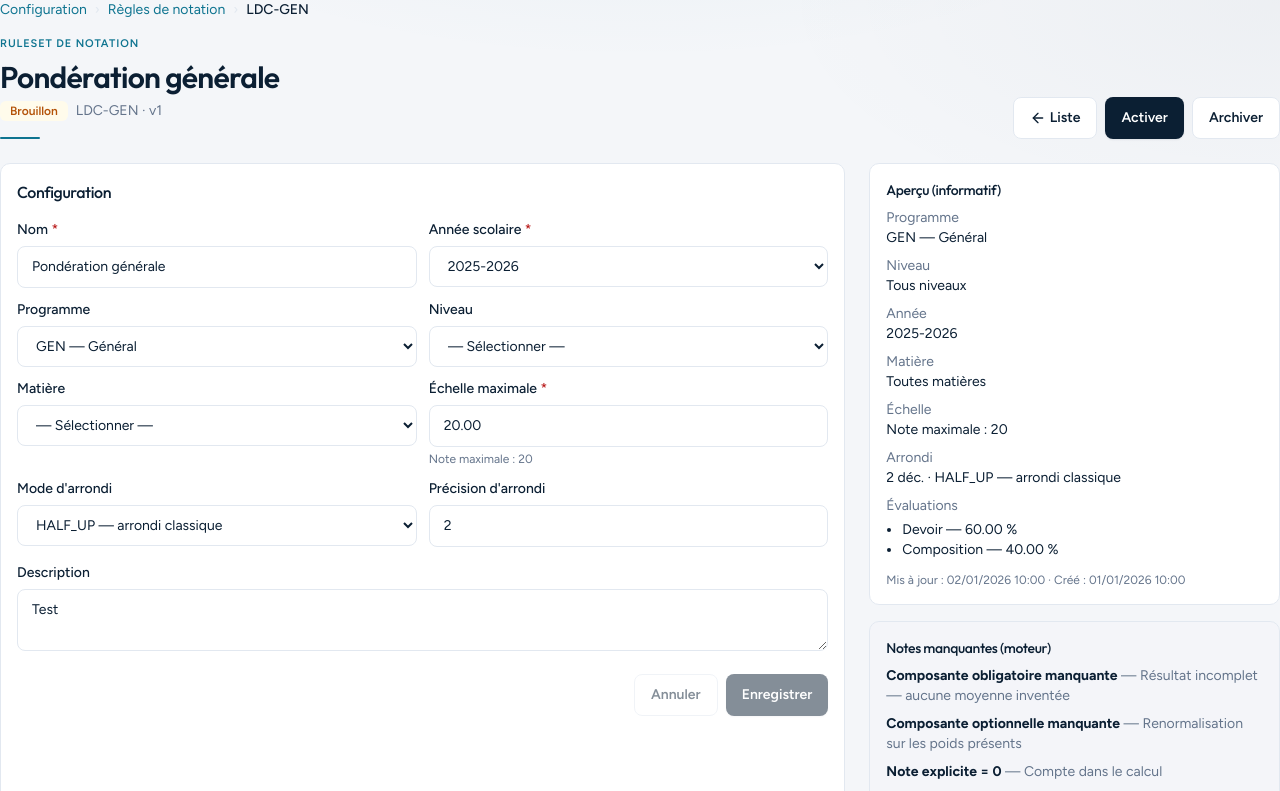
Test case: GradingRulesetDetail › gère une erreur 409 à l’activation
expect the heading "Pondération générale" is shown: met, box [0,58,279,94]
Click the button "Activer".
click(1145, 118)  # box [1105,96,1184,138]
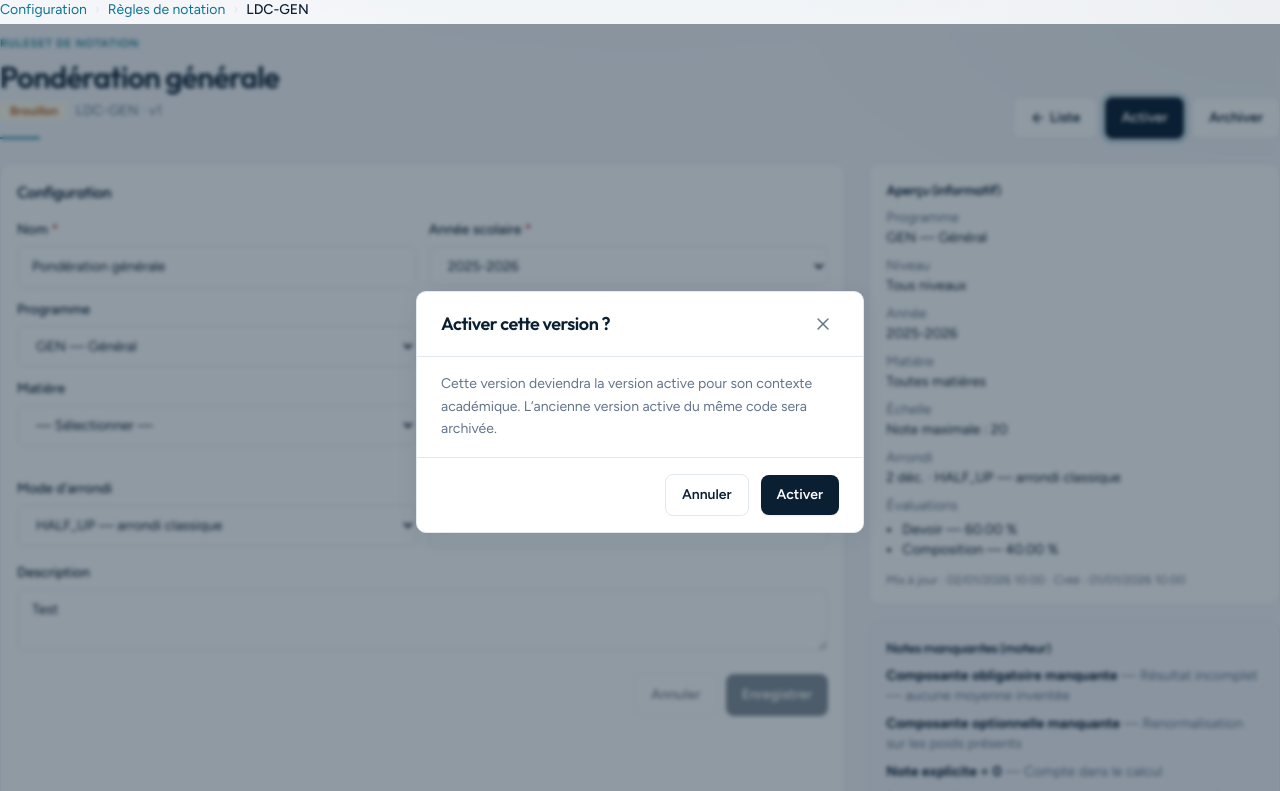
Click the button "Activer".
click(800, 495)  # box [760,475,839,515]
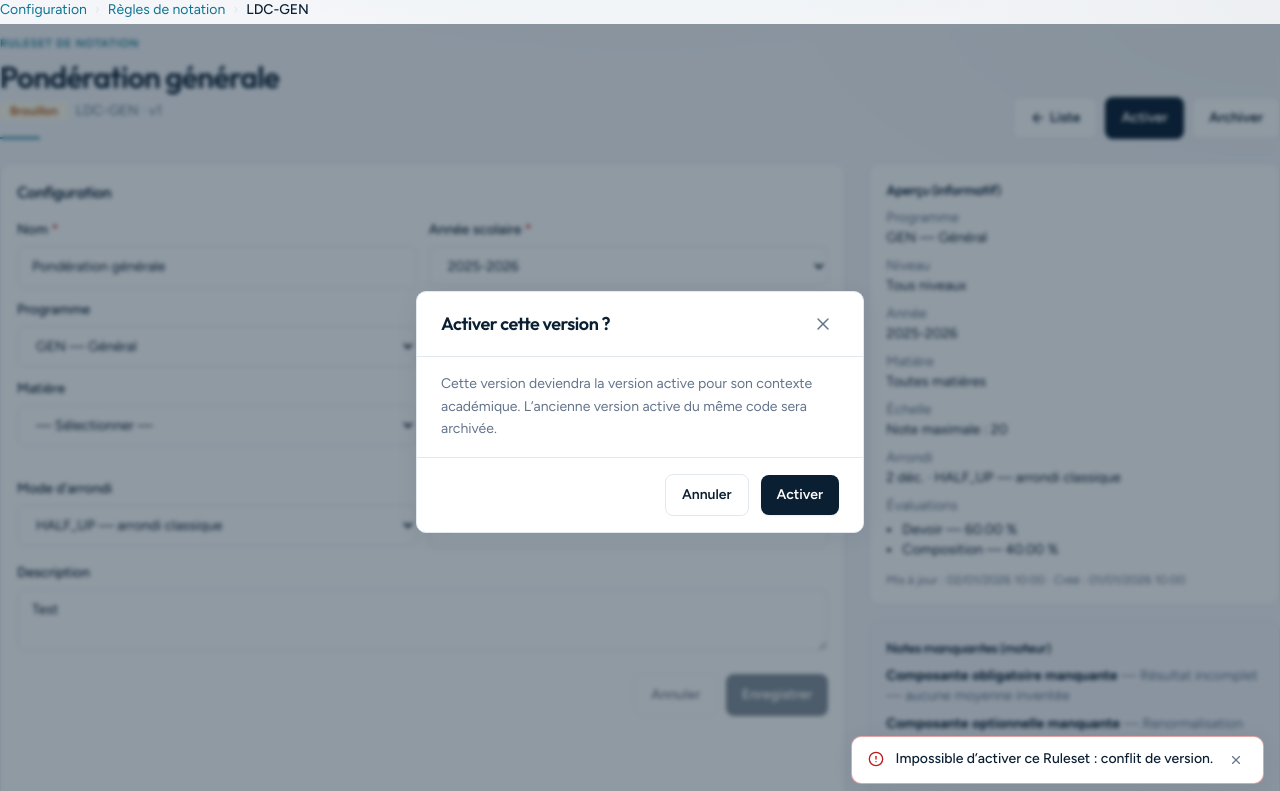
expect the text "Impossible d’activer ce Ruleset : conflit de version." is shown: met, box [896,749,1213,769]
